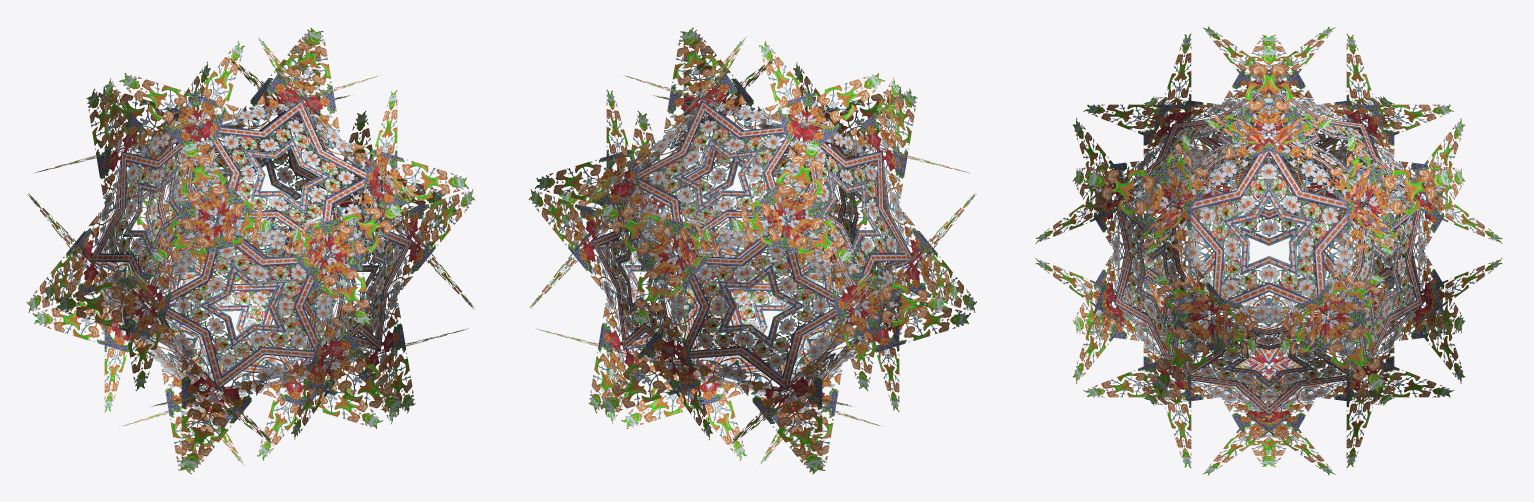
The model's file is 6GreatIcosidodecahedron.gltf.
3 renders of one model, left to right at view 1: azimuth 30°, elevation 25°; view 2: azimuth 150°, elevation 25°; view 3: azimuth 270°, elevation 25°, orthographic.
Parts seen in each view (by area): view 1: GreatIcosidodecahedron8; view 2: GreatIcosidodecahedron8; view 3: GreatIcosidodecahedron8.
Part boxes in pixels (<box>): GreatIcosidodecahedron8: <box>26,28,474,474</box>; GreatIcosidodecahedron8: <box>528,27,976,473</box>; GreatIcosidodecahedron8: <box>1035,26,1502,475</box>.
Bounding box in the file's own units: 1.24 × 1.24 × 1.24.
1 material, 1 textured.
